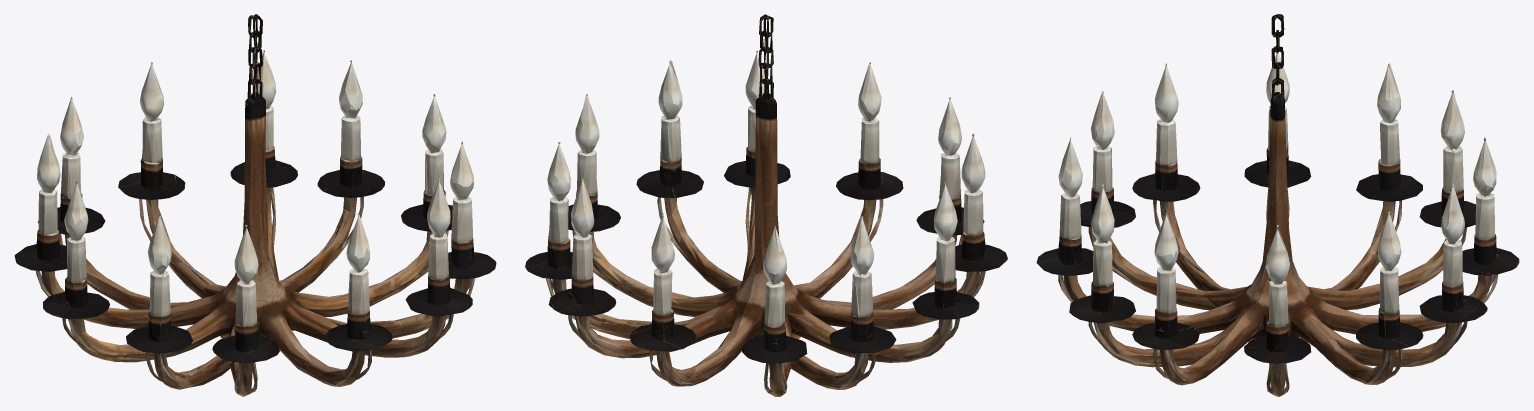
File: ceiling_lamp.glb
3 views of the same model, side by side, from view 1: azimuth 30°, elevation 25°; view 2: azimuth 150°, elevation 25°; view 3: azimuth 270°, elevation 25° (orthographic).
Bounding box in the file's own units: 1.9 × 1.43 × 1.9.
1 material, 1 textured.
